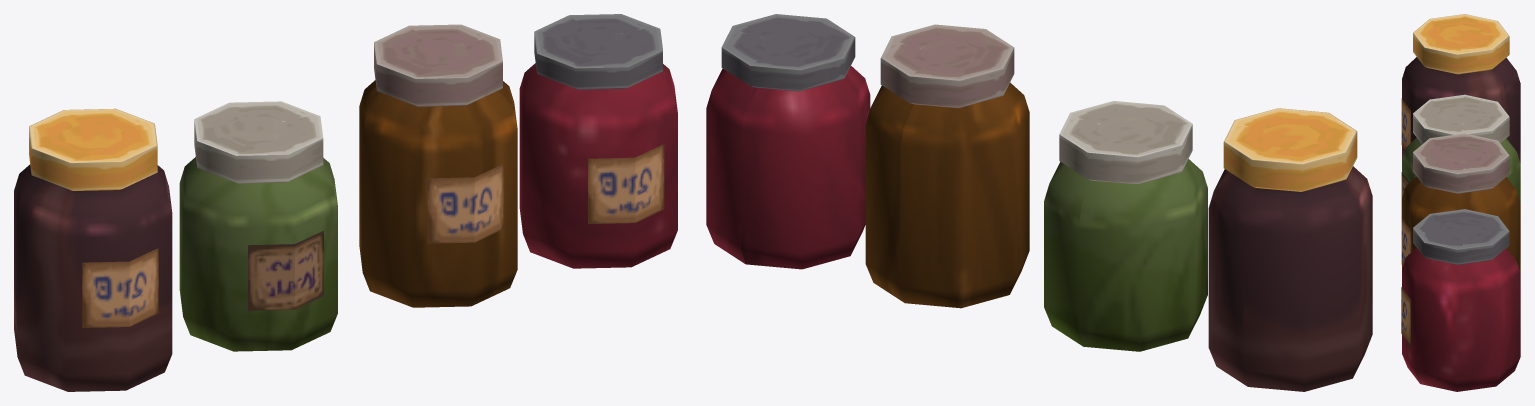
The model's file is Jar_Group3.fbx.
The picture shows the model from 3 angles, left to right: view 1: azimuth 30°, elevation 25°; view 2: azimuth 150°, elevation 25°; view 3: azimuth 270°, elevation 25°; orthographic projection. The views are drawn at different scales.
Visible parts, largest first — view 1: Jar_Group3; view 2: Jar_Group3; view 3: Jar_Group3.
Boxes of the visible parts, left/top/right/bottom form: Jar_Group3: left=14, top=14, right=677, bottom=391; Jar_Group3: left=706, top=14, right=1372, bottom=391; Jar_Group3: left=1401, top=14, right=1520, bottom=391.
Bounding box in the file's own units: 61.67 × 20.45 × 13.79.
1 material, 1 textured.
